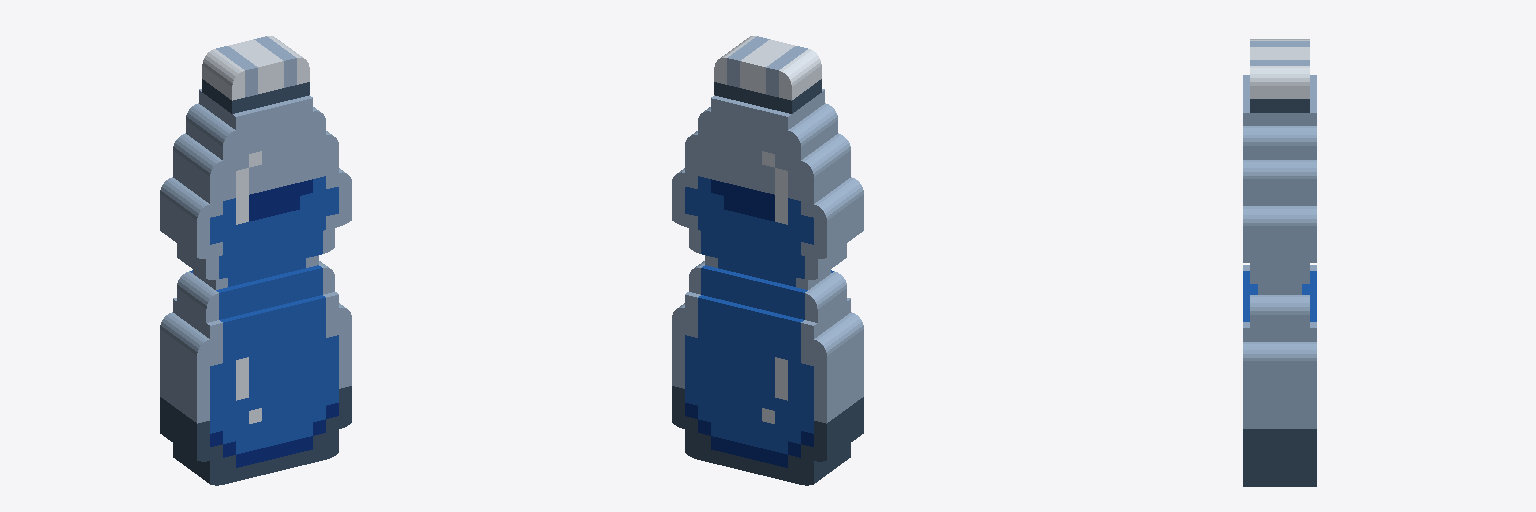
File: WaterBottle.obj
3 renders of one model, left to right at view 1: azimuth 30°, elevation 25°; view 2: azimuth 150°, elevation 25°; view 3: azimuth 270°, elevation 25°, orthographic.
Bounding box in the file's own units: 12 × 30 × 5.